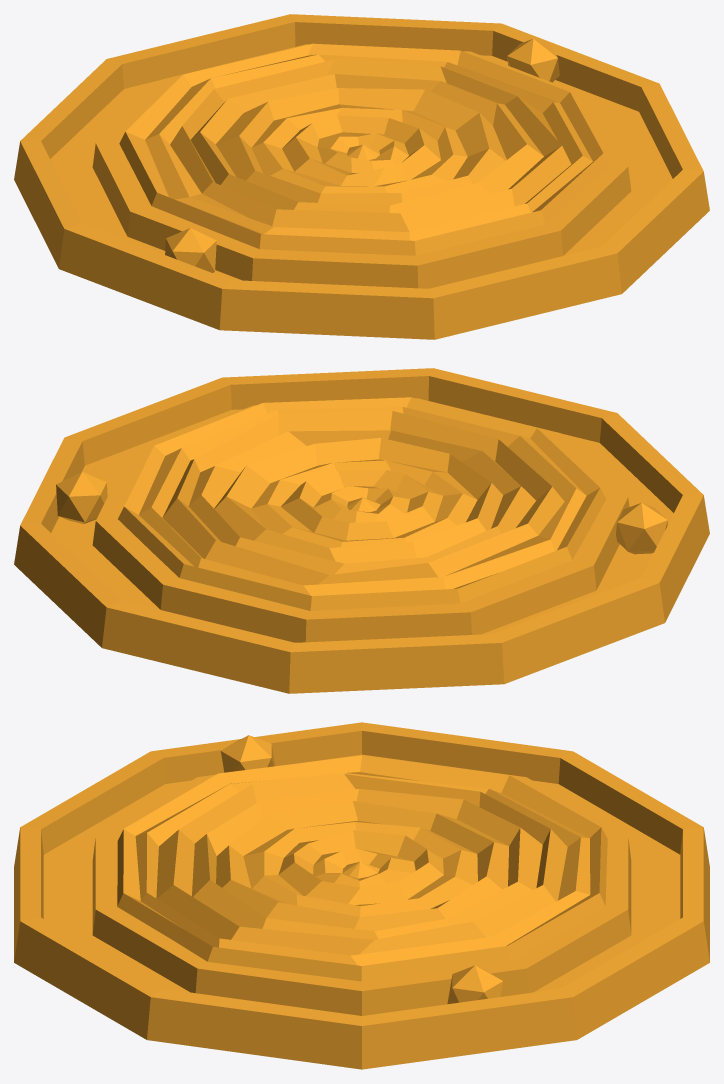
The model's file is SM_Scratcher_Pad.fbx.
3 views of the same model, one above another, from view 1: azimuth 30°, elevation 25°; view 2: azimuth 150°, elevation 25°; view 3: azimuth 270°, elevation 25° (orthographic). The views are drawn at different scales.
Visible parts, largest first — view 1: SM_Scratcher_Pad; view 2: SM_Scratcher_Pad; view 3: SM_Scratcher_Pad.
Boxes of the visible parts, x1,y1,x2,y2 form: SM_Scratcher_Pad: [14, 14, 709, 339]; SM_Scratcher_Pad: [14, 368, 709, 693]; SM_Scratcher_Pad: [14, 722, 709, 1069].
Bounding box in the file's own units: 0.4969 × 0.0558 × 0.4726.
